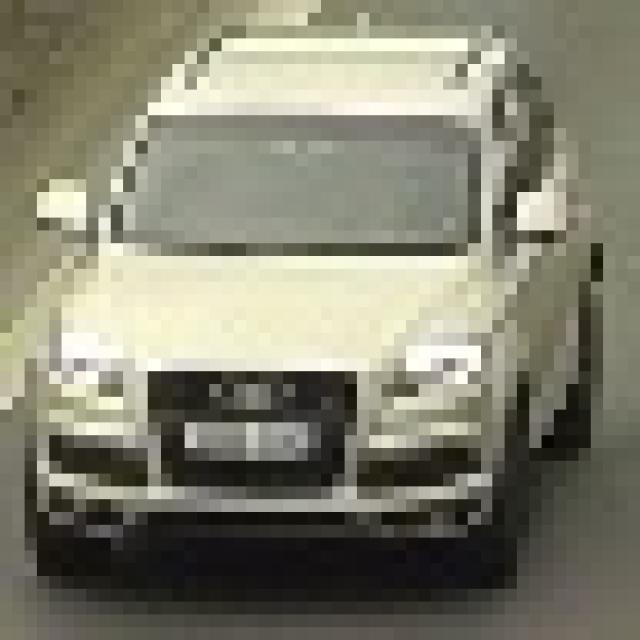SUV: (25, 48, 588, 562)
